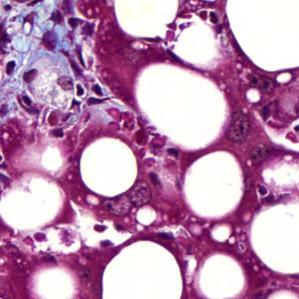steatosis: (183, 153, 250, 219), (79, 138, 138, 195)
